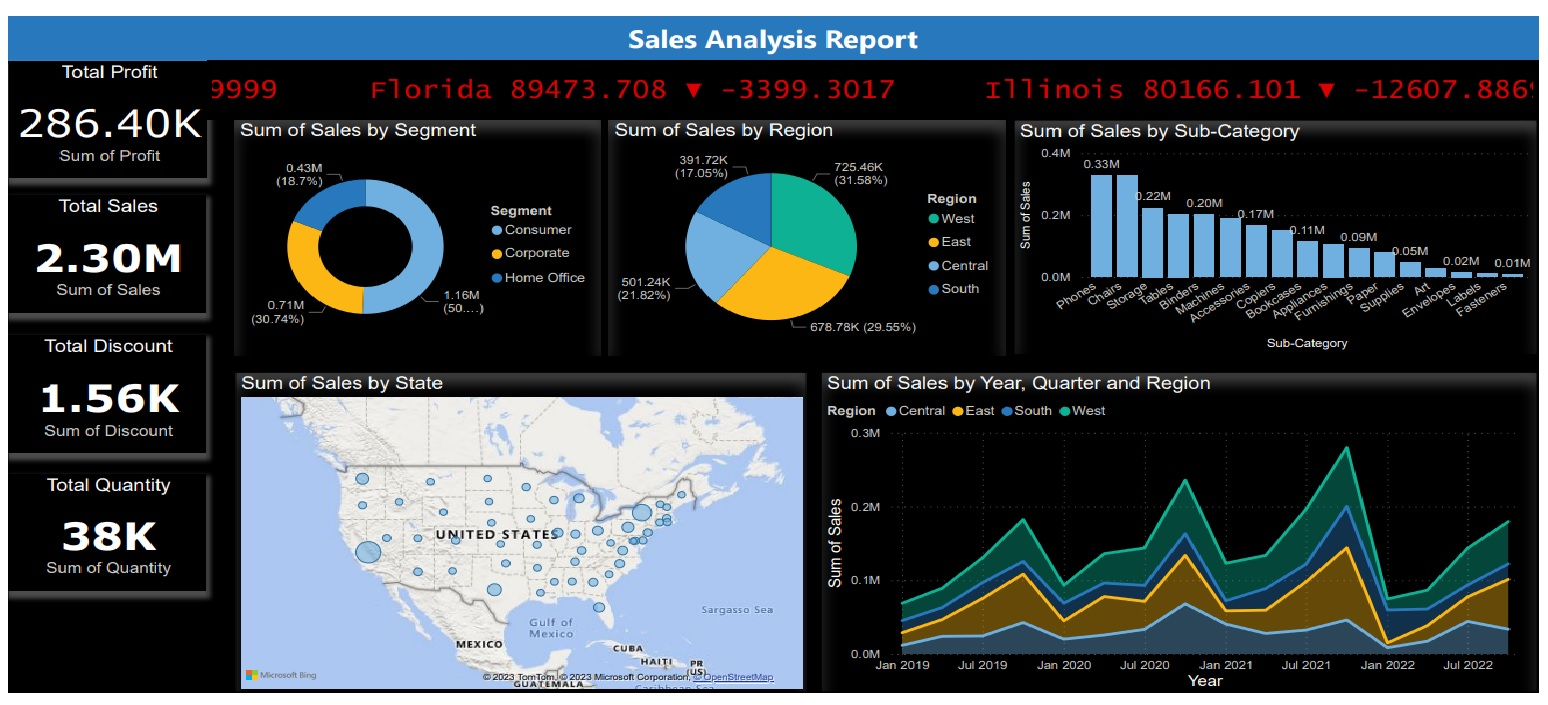

The dashboard page shown, as its layout file describes it:
{"tool":"powerbi","page":{"name":"Page 1","canvas":[1400,720],"ordinal":0},"visuals":[{"type":"textbox","box":[0,0,1400,46.7],"z":2000},{"type":"card","title":"Total Sales","fields":{"Values":["Sum(TechnoEdge Monthy Sales Data.Sales)"]},"box":[0,191.1,181.1,124.4],"z":3000},{"type":"card","title":"Total Profit","fields":{"Values":["Sum(TechnoEdge Monthy Sales Data.Profit)"]},"box":[1.1,47.8,181.1,124.4],"z":4000},{"type":"card","title":"Total Discount","fields":{"Values":["Sum(TechnoEdge Monthy Sales Data.Discount)"]},"box":[0,340,181.1,124.4],"z":5000},{"type":"card","title":"Total Quantity","fields":{"Values":["Sum(TechnoEdge Monthy Sales Data.Quantity)"]},"box":[0,486.7,181.1,124.4],"z":6000},{"type":"stackedAreaChart","fields":{"Category":["TechnoEdge Monthy Sales Data.Order Date.Variation.Date Hierarchy.Year","TechnoEdge Monthy Sales Data.Order Date.Variation.Date Hierarchy.Quarter","TechnoEdge Monthy Sales Data.Order Date.Variation.Date Hierarchy.Month","TechnoEdge Monthy Sales Data.Order Date.Variation.Date Hierarchy.Day"],"Y":["Sum(TechnoEdge Monthy Sales Data.Sales)"],"Series":["TechnoEdge Monthy Sales Data.Region"]},"box":[743.3,377.8,656.7,342.2],"z":7000},{"type":"map","fields":{"Category":["TechnoEdge Monthy Sales Data.State"],"Size":["Sum(TechnoEdge Monthy Sales Data.Sales)"]},"box":[206.7,377.8,524.4,342.2],"z":8000},{"type":"columnChart","fields":{"Category":["TechnoEdge Monthy Sales Data.Sub-Category"],"Y":["Sum(TechnoEdge Monthy Sales Data.Sales)"]},"box":[920,110,480,250],"z":9000},{"type":"pieChart","fields":{"Y":["Sum(TechnoEdge Monthy Sales Data.Sales)"],"Category":["TechnoEdge Monthy Sales Data.Region"]},"box":[550,110,362.2,250],"z":10000},{"type":"donutChart","fields":{"Category":["TechnoEdge Monthy Sales Data.Segment"],"Y":["Sum(TechnoEdge Monthy Sales Data.Sales)"]},"box":[206.7,110,335.6,250],"z":11000},{"type":"ScrollingTextVisual1448795304508","fields":{"Category":["TechnoEdge Monthy Sales Data.State"],"Measure Absolute":["Sum(TechnoEdge Monthy Sales Data.Sales)"],"Measure Deviation":["Sum(TechnoEdge Monthy Sales Data.Profit)"]},"box":[182.2,46.7,1217.8,63.3],"z":12000}]}

Visuals, with their boxes on the page's 1400x720 design canvas (x1, y1, x2, y2). These are canvas units, not pixel positions in the 1548x705 screenshot, which may show the page scaled, cropped or inside an application window:
textbox: {"x1": 0, "y1": 0, "x2": 1400, "y2": 47}
"Total Sales" card: {"x1": 0, "y1": 191, "x2": 181, "y2": 316}
"Total Profit" card: {"x1": 1, "y1": 48, "x2": 182, "y2": 172}
"Total Discount" card: {"x1": 0, "y1": 340, "x2": 181, "y2": 464}
"Total Quantity" card: {"x1": 0, "y1": 487, "x2": 181, "y2": 611}
stackedAreaChart - TechnoEdge Monthy Sales Data.Order Date.Variation.Date Hierarchy.Year x TechnoEdge Monthy Sales Data.Order Date.Variation.Date Hierarchy.Quarter: {"x1": 743, "y1": 378, "x2": 1400, "y2": 720}
map - TechnoEdge Monthy Sales Data.State x Sum(TechnoEdge Monthy Sales Data.Sales): {"x1": 207, "y1": 378, "x2": 731, "y2": 720}
columnChart - TechnoEdge Monthy Sales Data.Sub-Category x Sum(TechnoEdge Monthy Sales Data.Sales): {"x1": 920, "y1": 110, "x2": 1400, "y2": 360}
pieChart - Sum(TechnoEdge Monthy Sales Data.Sales) x TechnoEdge Monthy Sales Data.Region: {"x1": 550, "y1": 110, "x2": 912, "y2": 360}
donutChart - TechnoEdge Monthy Sales Data.Segment x Sum(TechnoEdge Monthy Sales Data.Sales): {"x1": 207, "y1": 110, "x2": 542, "y2": 360}
ScrollingTextVisual1448795304508 - TechnoEdge Monthy Sales Data.State x Sum(TechnoEdge Monthy Sales Data.Sales): {"x1": 182, "y1": 47, "x2": 1400, "y2": 110}
